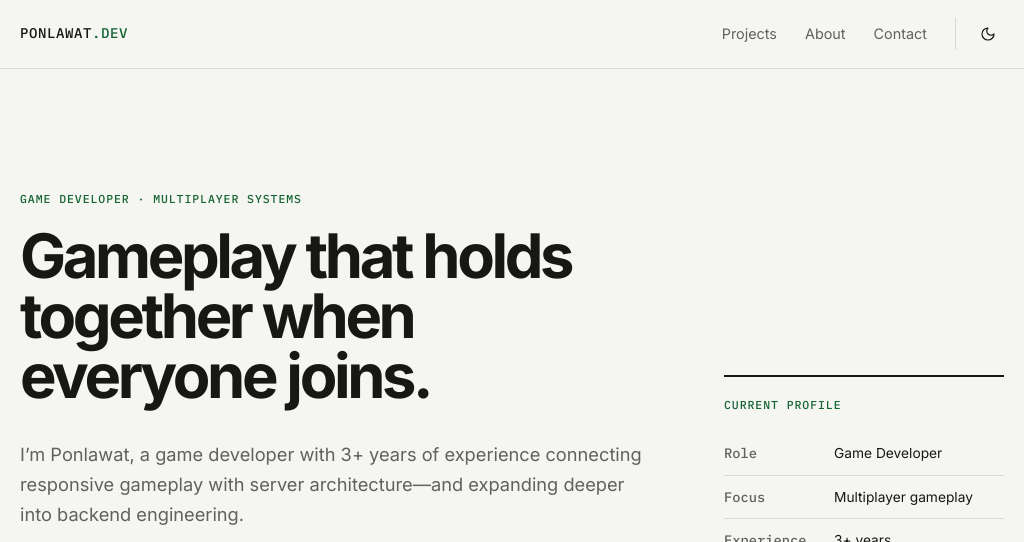
portfolio routes and shell › navigates from the homepage to the project index
Click the link "Projects" at (749, 34), box [722, 22, 777, 46]
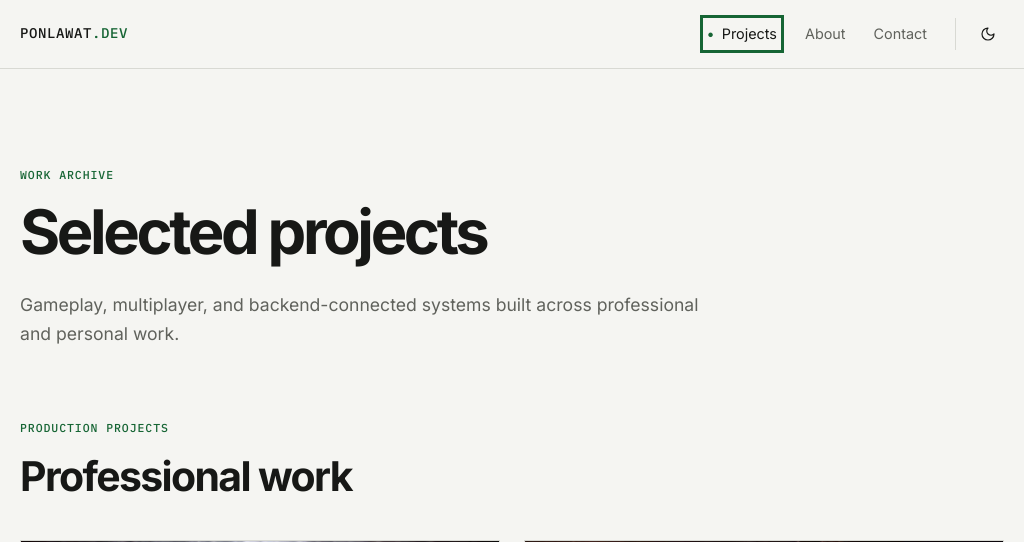
Now the heading "Selected projects" is shown, box [20, 194, 486, 269]
